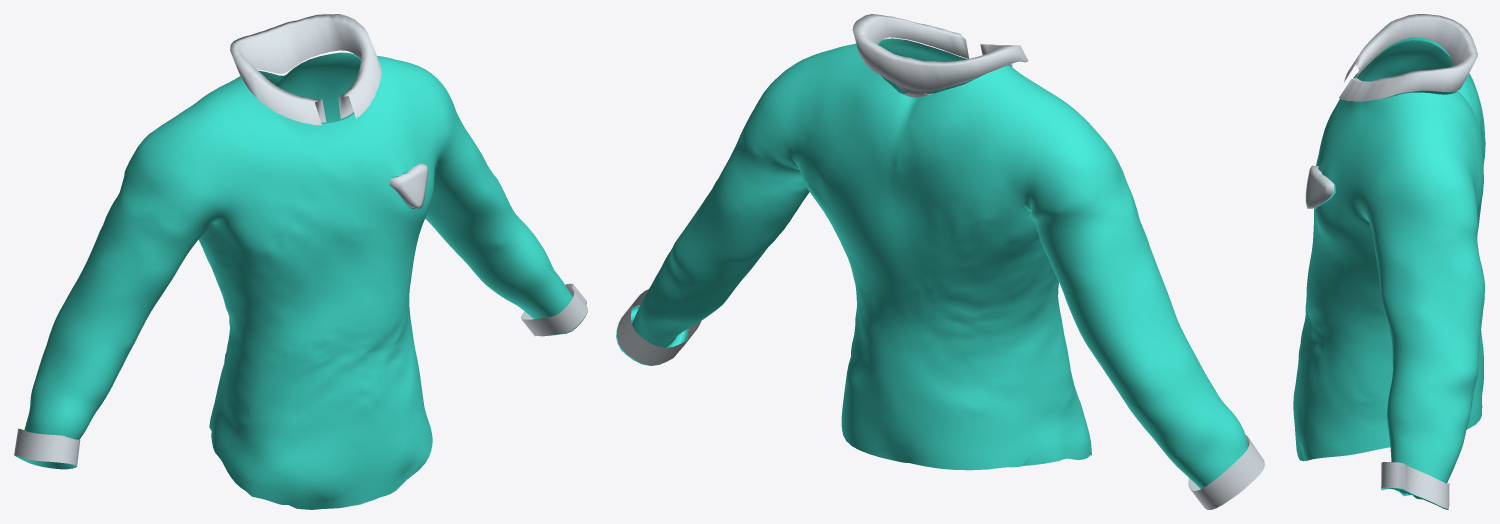
File: Male-Small-shirtWithAbbi.glb
3 renders of one model, left to right at view 1: azimuth 30°, elevation 25°; view 2: azimuth 150°, elevation 25°; view 3: azimuth 270°, elevation 25°, orthographic. The views are drawn at different scales.
Visible parts, largest first — view 1: Group1.037; view 2: Group1.037; view 3: Group1.037.
Part boxes in pixels (bbox=[...]): Group1.037: bbox=[14, 14, 587, 509]; Group1.037: bbox=[616, 14, 1264, 509]; Group1.037: bbox=[1293, 14, 1485, 509].
Size of the model in its own units: 1.78 by 1.24 by 0.5335.
